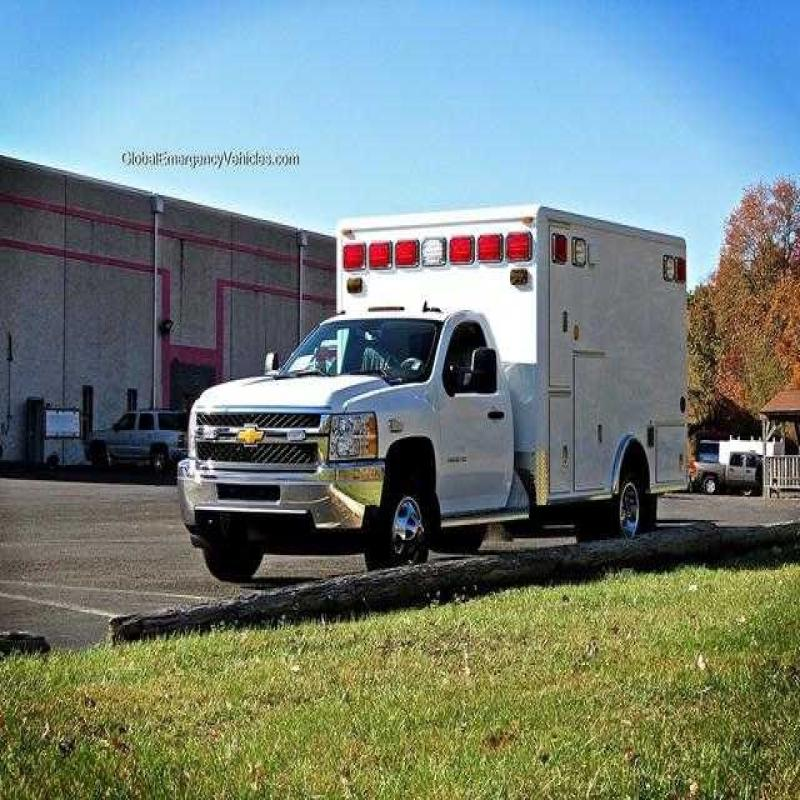AmbulanceSiren: (322, 227, 536, 285)
